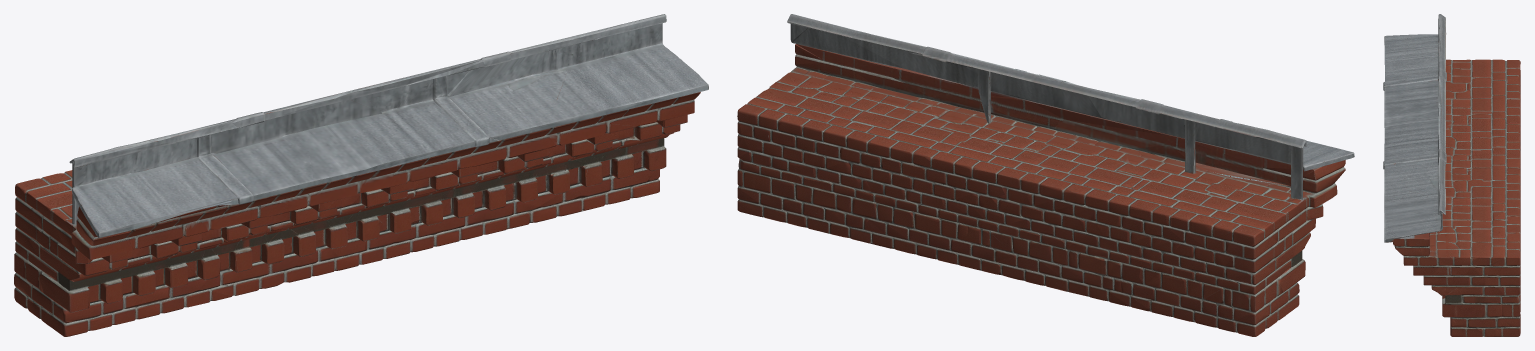
File: familok_cornice_segment.glb
3 views of the same model, side by side, from view 1: azimuth 30°, elevation 25°; view 2: azimuth 150°, elevation 25°; view 3: azimuth 270°, elevation 25° (orthographic). The views are drawn at different scales.
Bounding box in the file's own units: 1.9 × 0.5531 × 0.5435.
1 material, 1 textured.
